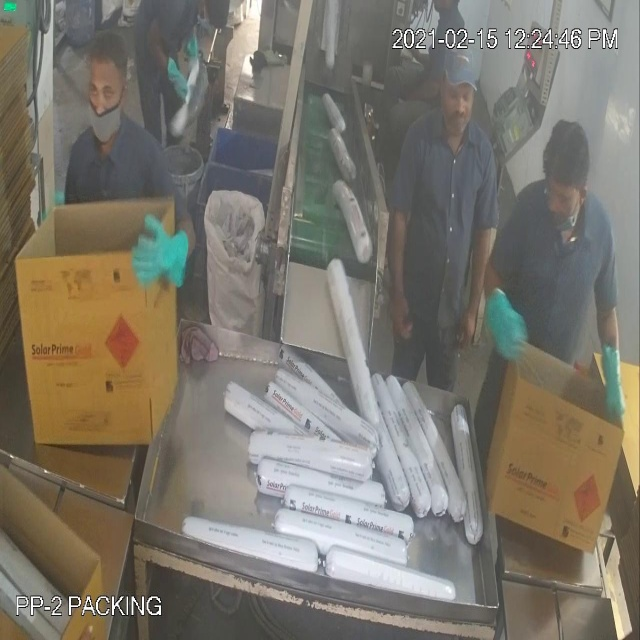Guantes: (121, 197, 194, 310), (483, 274, 534, 378), (593, 323, 630, 448)
Sin_guantes: (382, 188, 426, 359), (451, 201, 496, 364)
